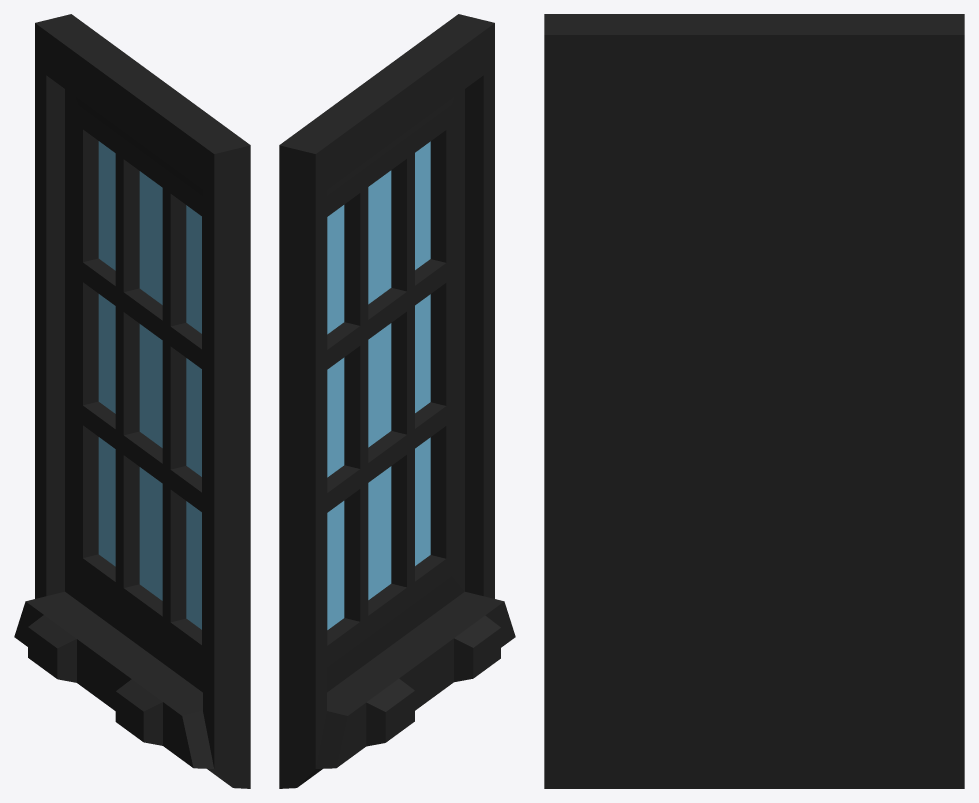
File: M_Window_D_VR.fbx
The picture shows the model from 3 angles, left to right: view 1: azimuth 30°, elevation 25°; view 2: azimuth 150°, elevation 25°; view 3: azimuth 270°, elevation 25°; orthographic projection. The views are drawn at different scales.
Parts seen in each view (by area): view 1: Box001; view 2: Box001; view 3: Box001.
Part boxes in pixels (bbox=[...]): Box001: bbox=[14, 14, 250, 788]; Box001: bbox=[279, 14, 515, 788]; Box001: bbox=[544, 14, 964, 788].
Size of the model in its own units: 0.3327 by 2.73 by 1.38.
